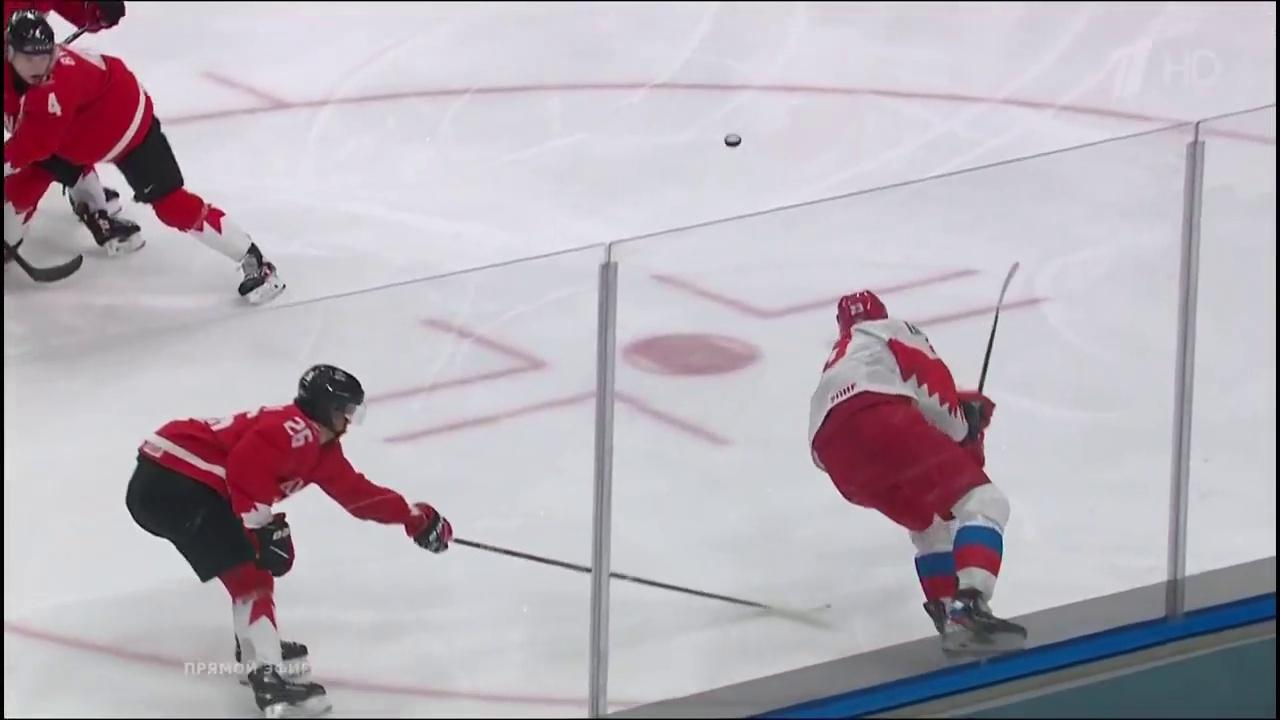ball: (725, 134, 742, 147)
